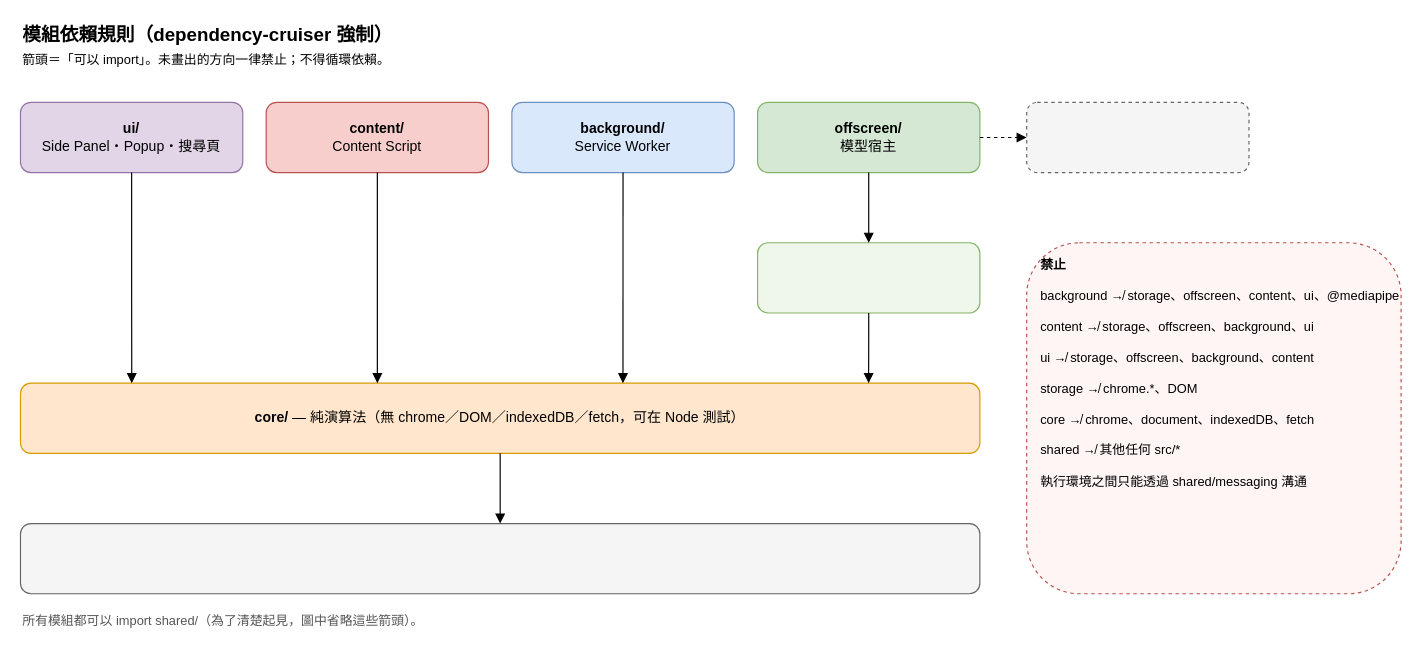
Some shapes in this 1422 by 653 pixel diagram are drawn without their labels. The centre of each missing label's shape, as x and y in pixels:
@mediapipe/tasks-retrieval 1.2.3（npm）: point 1137,137
shared/ — 契約、型別、常數、設定；只能 import shared 自己: point 499,558
storage/ IndexedDB 資料層: point 868,277
